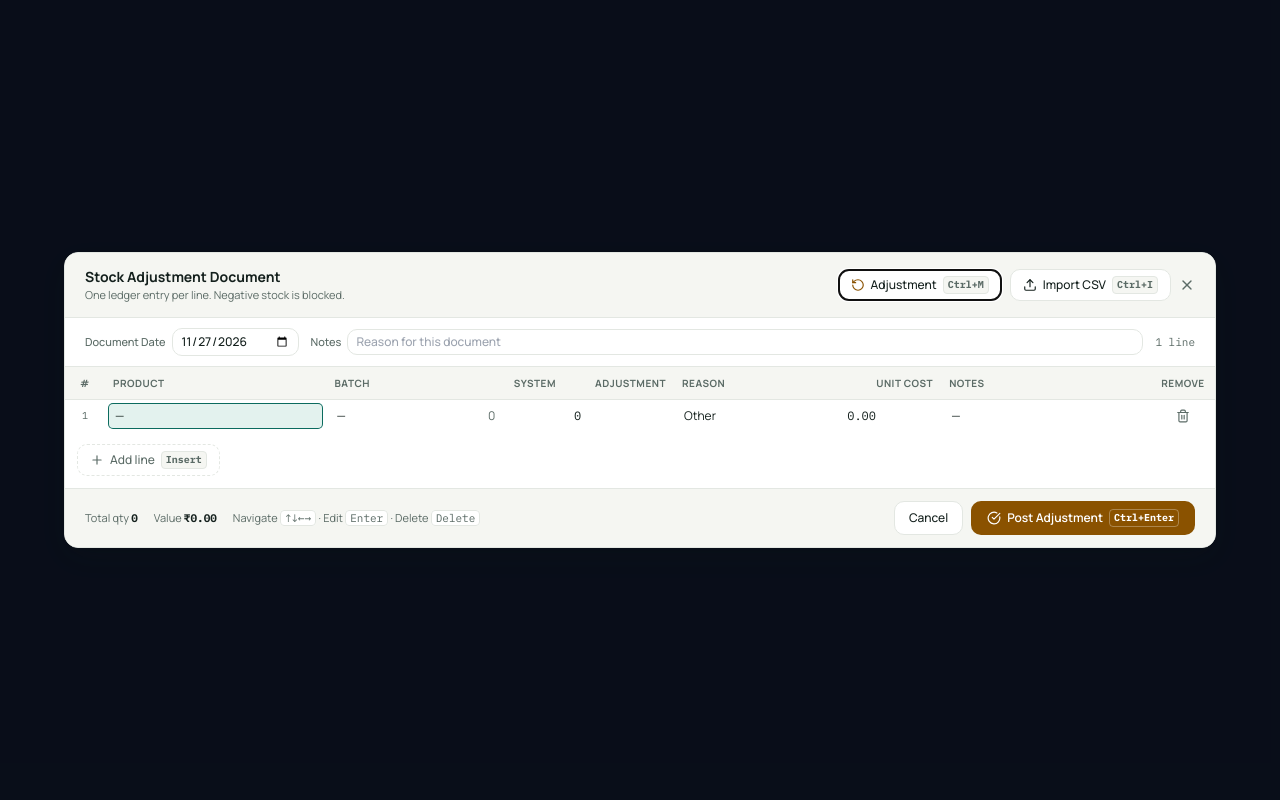
Scenario: StockAdjustmentDocumentModal keyboard grid › imports CSV through Ctrl+I and applies the valid rows
This screenshot has width=1280, height=800.
Press i in the button "Add line Insert", box [77,444,220,476]
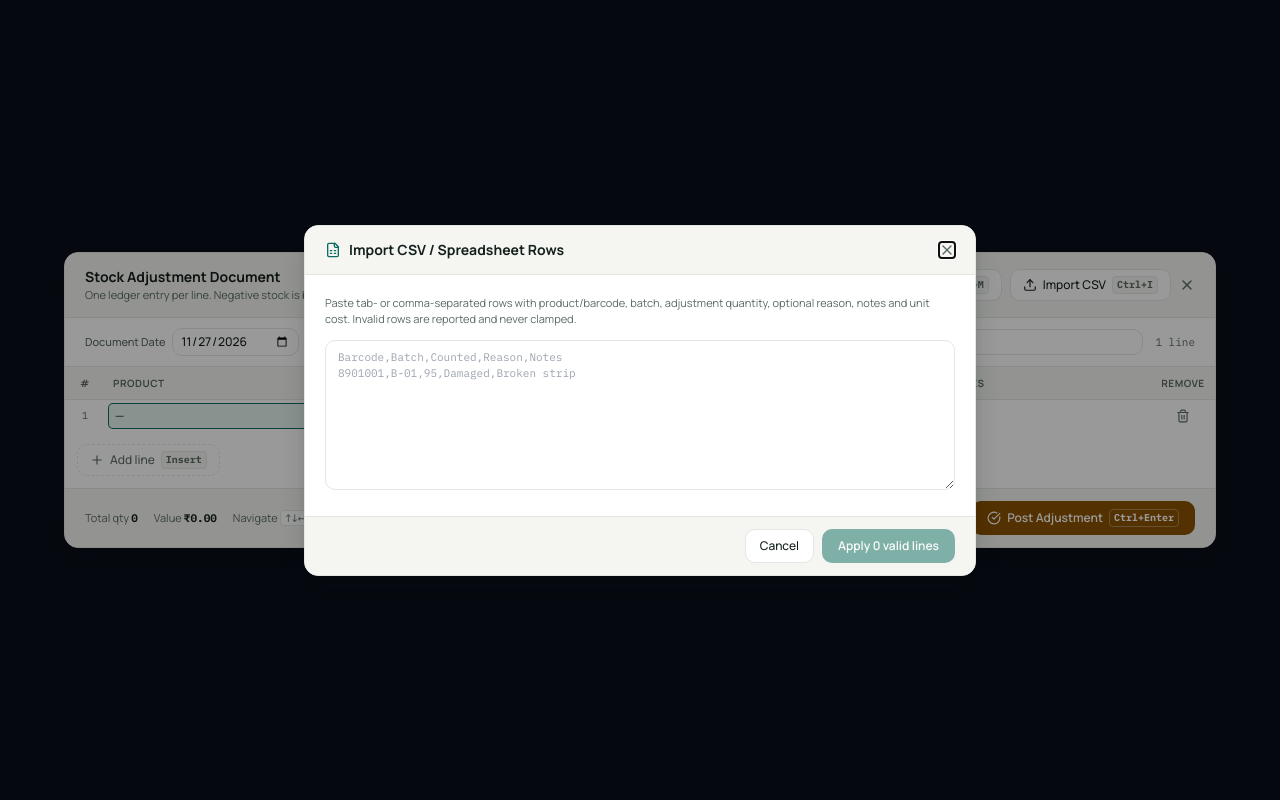
Expected: the heading "Import CSV / Spreadsheet Rows" is shown, [349,240,564,260]
Replace the text in the text box with placeholder "Barcode,Batch,Counted" with "8901001,PAR-01,-4,Damaged,Broken strip" at (640,414), box [325,340,955,490]
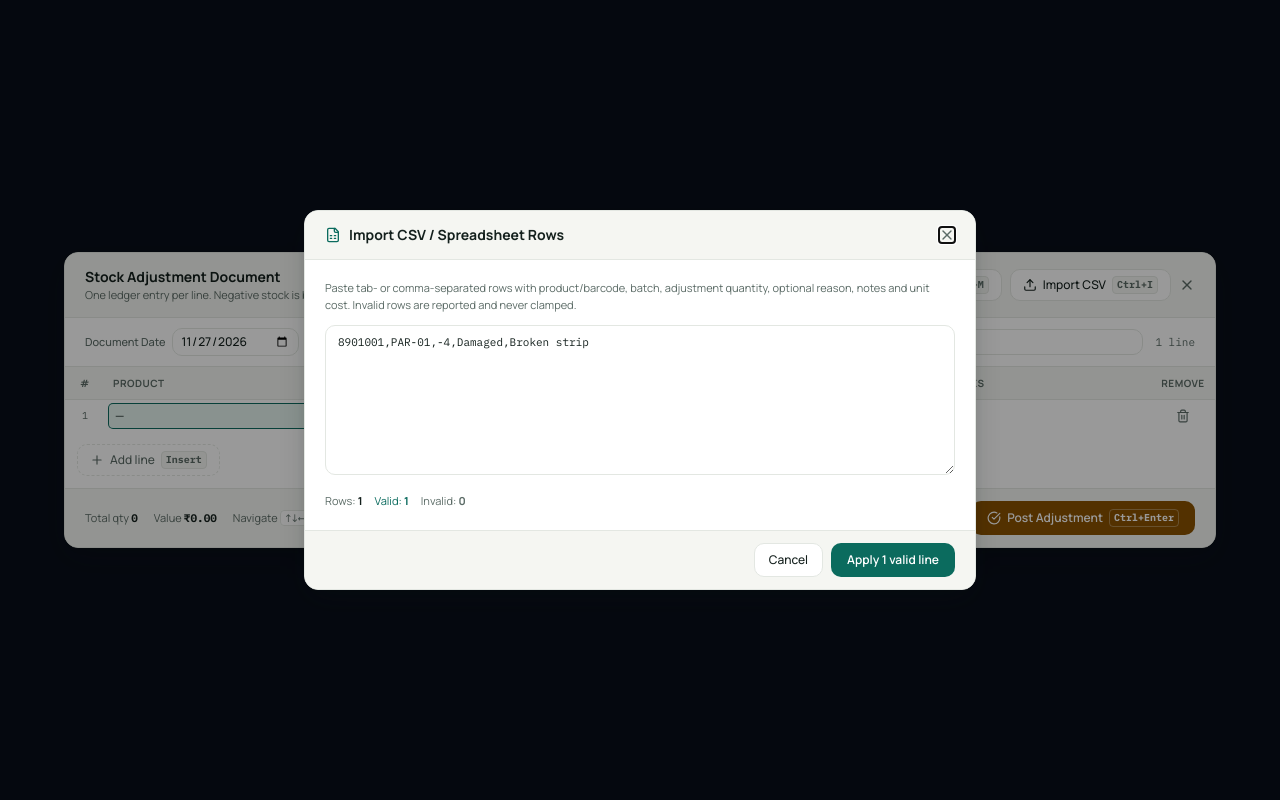
Click the button "Apply 1 valid line" at (893,560), box [831,543,955,577]
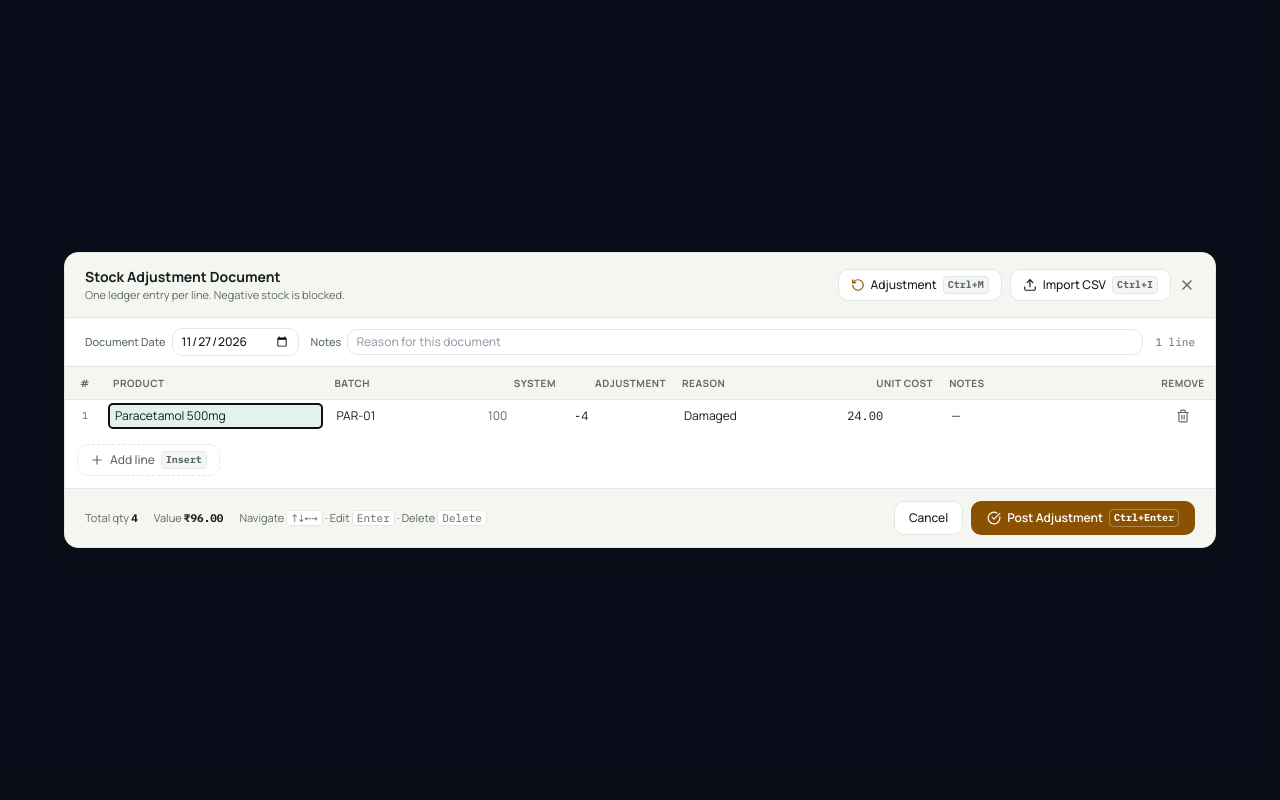
Expected: the text "Paracetamol 500mg" is shown, [109,404,322,428]
